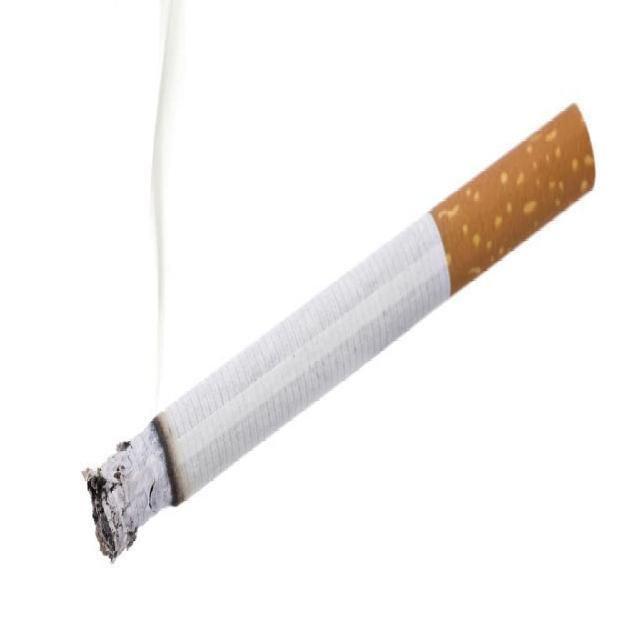cigarette: (79, 86, 602, 551)
